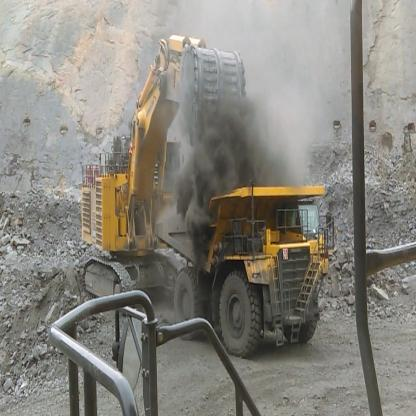dump_truck: (169, 179, 340, 349)
excavator: (74, 32, 246, 310)
